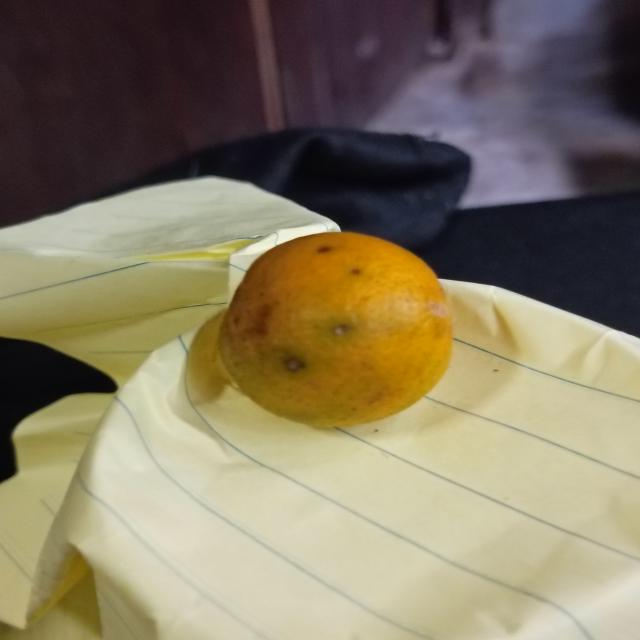black spot: (215, 228, 463, 432)
